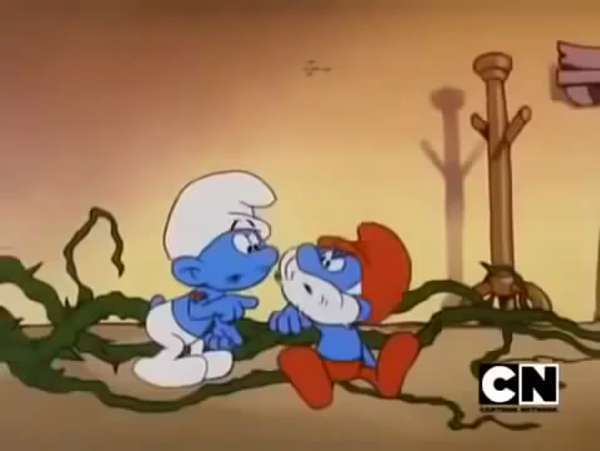smurf: (131, 167, 280, 389), (267, 220, 425, 414)
